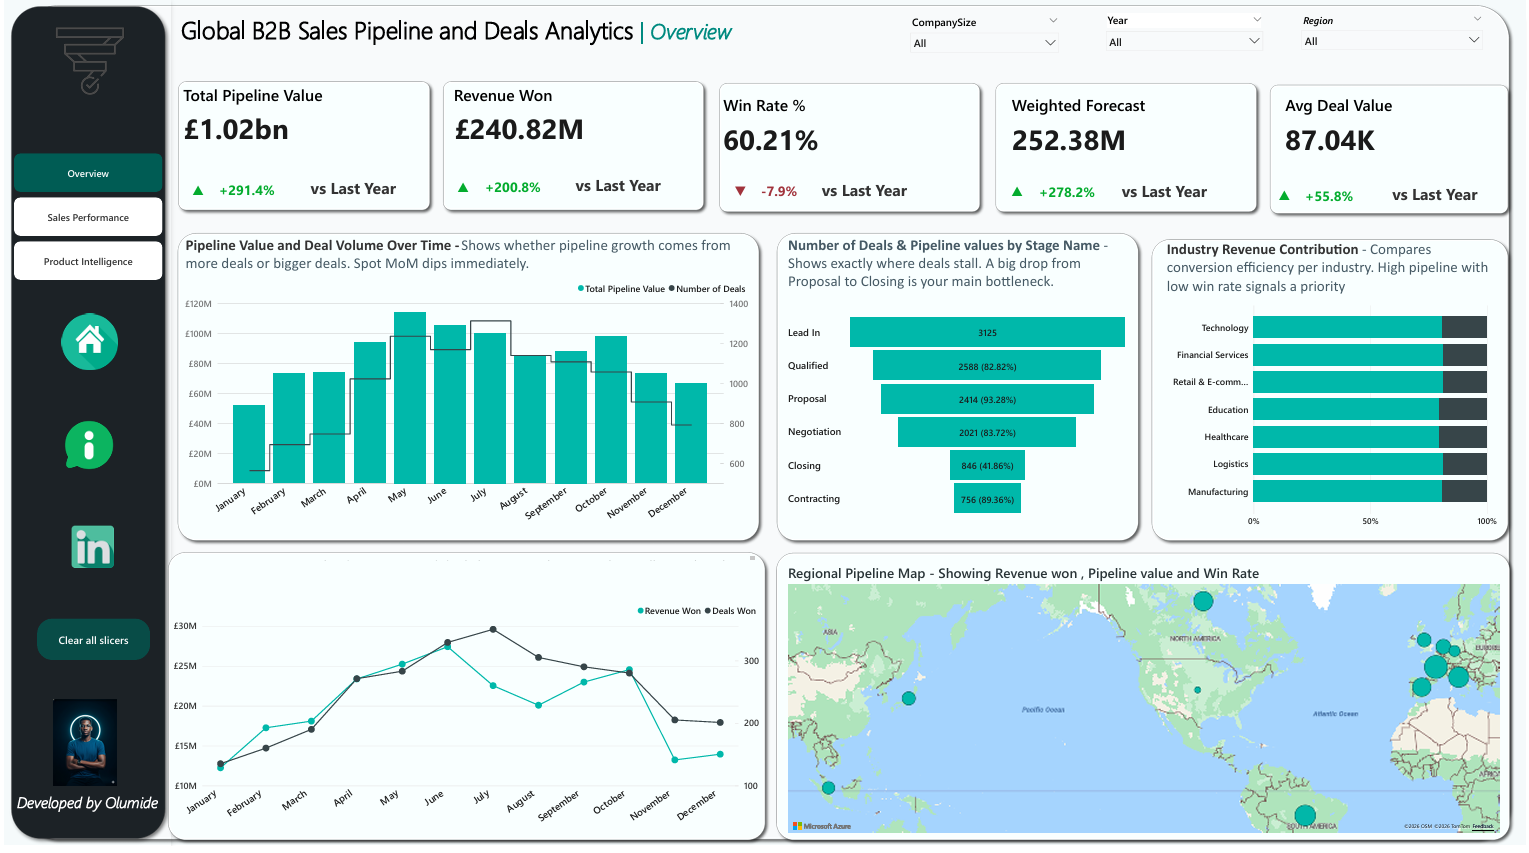

The page's visual inventory and layout, read from the dashboard file:
{"tool":"powerbi","page":{"name":"Overview","canvas":[2700,1500],"ordinal":0},"visuals":[{"type":"group","id":"g1","title":"Group 1","box":[0,0,2680,1500],"z":0},{"type":"shape","box":[25.2,0,2654.4,1500],"z":0,"group":"g1"},{"type":"shape","box":[0,0,297.2,1500],"z":1000,"group":"g1"},{"type":"shape","box":[297.5,135,466.6,249],"z":1000,"group":"g2"},{"type":"shape","box":[296.8,403.8,1052.6,566],"z":1000},{"type":"shape","box":[279.5,969.7,1080.2,531.5],"z":2000},{"type":"shape","box":[1358.6,970.8,1322.5,529.9],"z":3000},{"type":"shape","box":[1359.7,403.8,662.6,566],"z":4000},{"type":"shape","box":[2025,415,652.5,555],"z":5000},{"type":"group","id":"g2","title":"Group 2","box":[297.5,135,2380,255],"z":6000},{"type":"textbox","box":[293.9,19.3,1014.1,89.1],"z":7000},{"type":"shape","box":[767.5,135,483.4,249],"z":7000,"group":"g2"},{"type":"shape","box":[1257.6,138,483.4,249],"z":8000,"group":"g2"},{"type":"funnel","title":"Number of Deals, Pipeline Value by StageName - ","fields":{"Category":["FactDeals.StageName"],"Y":["FactDeals.Number of Deals"]},"box":[1385,530,612.5,415],"z":8000},{"type":"shape","box":[1747.7,138,483.4,249],"z":9000,"group":"g2"},{"type":"lineStackedColumnComboChart","title":"Total Pipeline Value and Number of Deals by Month Name","fields":{"Category":["DimDate.MonthName"],"Y":["FactDeals.1_Total Pipeline Value"],"Y2":["FactDeals.Number of Deals"]},"box":[315,490,1010,455],"z":9000},{"type":"shape","box":[2234.4,141,443.1,249],"z":10000,"group":"g2"},{"type":"hundredPercentStackedBarChart","title":"Total Pipeline Value, 2_Revenue Won and 3_Win Rate % by Industry","fields":{"Category":["DimCompany.Industry"],"Y":["FactDeals.1_Total Pipeline Value","FactDeals.2_Revenue Won"]},"box":[2052.5,530,600,415],"z":10000},{"type":"azureMap","title":"Regional Pipeline Map - Showing Revenue won , Pipeline value and Win Rate","fields":{"Category":["DimCompany.Country","DimCompany.Region"],"Size":["FactDeals.2_Revenue Won"]},"box":[1385.1,999.7,1271.9,481.8],"z":11000},{"type":"areaChart","fields":{"Category":["DimDate.MonthName"],"Y":["FactDeals.2_Revenue Won"],"Y2":["FactDeals.Deals Won"]},"box":[293.9,1062.3,1050.3,419.1],"z":12000},{"type":"cardVisual","fields":{"Data":["FactDeals.1_Total Pipeline Value"]},"box":[300,140,345,130],"z":13000},{"type":"cardVisual","fields":{"Data":["FactDeals.1_Pipeline Value YoY Icon"]},"box":[315.8,294.2,95,77.5],"z":14000},{"type":"cardVisual","fields":{"Data":["FactDeals.1_Pipeline Value YoY Display"]},"box":[363.3,294.2,185,77.5],"z":15000},{"type":"cardVisual","fields":{"Data":["FactDeals.1_Pipeline YoY Label"]},"box":[525.8,294.2,212.5,70],"z":16000},{"type":"cardVisual","fields":{"Data":["FactDeals.2_Revenue Won"]},"box":[780,140,345,130],"z":17000},{"type":"cardVisual","fields":{"Data":["FactDeals.2_Revenue Won YoY Icon"]},"box":[786.2,287.5,95,77.5],"z":18000},{"type":"cardVisual","fields":{"Data":["FactDeals.2_Revenue Won YoY Display"]},"box":[834.6,287.5,200,77.5],"z":19000},{"type":"cardVisual","fields":{"Data":["FactDeals.2_Revenue Won YoY Label"]},"box":[996.2,287.5,212.5,70],"z":20000},{"type":"cardVisual","fields":{"Data":["FactDeals.3_Win Rate %"]},"box":[1257.5,160,345,127.5],"z":21000},{"type":"cardVisual","fields":{"Data":["FactDeals.3_Win Rate YoY Icon"]},"box":[1277.5,295,95,77.5],"z":22000},{"type":"cardVisual","fields":{"Data":["FactDeals.3_Win Rate YoY Display"]},"box":[1325,295,157.5,77.5],"z":23000},{"type":"cardVisual","fields":{"Data":["FactDeals.3_Win Rate Label"]},"box":[1432.5,297.5,260,70],"z":24000},{"type":"cardVisual","fields":{"Data":["FactDeals.4_Weighted Forecast"]},"box":[1770,157.5,345,130],"z":25000},{"type":"cardVisual","fields":{"Data":["FactDeals.4_Weighted Forcast YoY Icon"]},"box":[1768.8,294.6,95,77.5],"z":26000},{"type":"cardVisual","fields":{"Data":["FactDeals.4_Weighted Forcast YoY Display"]},"box":[1817.5,297.5,212.5,77.5],"z":27000},{"type":"cardVisual","fields":{"Data":["FactDeals.4_Weighted Forcast Label"]},"box":[1965,300,212.5,70],"z":28000},{"type":"cardVisual","fields":{"Data":["FactDeals.5_Avg Deal Value"]},"box":[2255,157.5,345,130],"z":29000},{"type":"cardVisual","fields":{"Data":["FactDeals.5_Avg Deal Value YoY Icon"]},"box":[2243.3,302.5,95,77.5],"z":30000},{"type":"cardVisual","fields":{"Data":["FactDeals.5_Avg Deal Value YoY Display"]},"box":[2290,305,197.5,77.5],"z":31000},{"type":"cardVisual","fields":{"Data":["FactDeals.5_Avg Deal Value Label"]},"box":[2445,305,207.5,70],"z":32000},{"type":"slicer","fields":{"Values":["DimDate.Year"]},"box":[1943.9,19.3,298.7,89.1],"z":33000},{"type":"slicer","fields":{"Values":["DimCompany.Region"]},"box":[2290.8,19.3,342.1,89.1],"z":34000},{"type":"textbox","box":[1385.1,414.3,611.8,115.6],"z":35000},{"type":"textbox","box":[315.6,414.3,1009.3,84.3],"z":36000},{"type":"textbox","box":[2057.2,421.5,592.6,115.6],"z":37000},{"type":"textbox","box":[327.6,982.8,1009.3,16.9],"z":38000},{"type":"slicer","fields":{"Values":["DimCompany.CompanySize"]},"box":[1597.1,21.7,284.2,86.7],"z":39000},{"type":"pageNavigator","box":[17.2,273.5,263.6,224.2],"z":40000},{"type":"textbox","box":[16.9,1399.5,265,55.4],"z":41000},{"type":"image","box":[24.1,1235.7,238.5,163.8],"z":42000},{"type":"image","box":[91.5,737.1,115.6,106],"z":43000},{"type":"image","box":[96.1,549.4,110.9,115.8],"z":44000},{"type":"image","box":[71.5,39.4,160.2,140.4],"z":46000},{"type":"image","box":[98.8,915.4,115.6,110.8],"z":47000},{"type":"actionButton","box":[57.8,1098.4,199.9,72.3],"z":48000}]}

Visuals, with their boxes on the page's 2700x1500 design canvas (x1, y1, x2, y2). These are canvas units, not pixel positions in the 1529x853 screenshot, which may show the page scaled, cropped or inside an application window:
"Group 1" group: locate(0, 0, 2680, 1500)
shape: locate(25, 0, 2680, 1500)
shape: locate(0, 0, 297, 1500)
shape: locate(298, 135, 764, 384)
shape: locate(297, 404, 1349, 970)
shape: locate(280, 970, 1360, 1501)
shape: locate(1359, 971, 2681, 1501)
shape: locate(1360, 404, 2022, 970)
shape: locate(2025, 415, 2678, 970)
"Group 2" group: locate(298, 135, 2678, 390)
textbox: locate(294, 19, 1308, 108)
shape: locate(768, 135, 1251, 384)
shape: locate(1258, 138, 1741, 387)
"Number of Deals, Pipeline Value by StageName - " funnel: locate(1385, 530, 1998, 945)
shape: locate(1748, 138, 2231, 387)
"Total Pipeline Value and Number of Deals by Month Name" lineStackedColumnComboChart: locate(315, 490, 1325, 945)
shape: locate(2234, 141, 2678, 390)
"Total Pipeline Value, 2_Revenue Won and 3_Win Rate % by Industry" hundredPercentStackedBarChart: locate(2052, 530, 2652, 945)
"Regional Pipeline Map - Showing Revenue won , Pipeline value and Win Rate" azureMap: locate(1385, 1000, 2657, 1482)
areaChart - DimDate.MonthName x FactDeals.2_Revenue Won: locate(294, 1062, 1344, 1481)
cardVisual - FactDeals.1_Total Pipeline Value: locate(300, 140, 645, 270)
cardVisual - FactDeals.1_Pipeline Value YoY Icon: locate(316, 294, 411, 372)
cardVisual - FactDeals.1_Pipeline Value YoY Display: locate(363, 294, 548, 372)
cardVisual - FactDeals.1_Pipeline YoY Label: locate(526, 294, 738, 364)
cardVisual - FactDeals.2_Revenue Won: locate(780, 140, 1125, 270)
cardVisual - FactDeals.2_Revenue Won YoY Icon: locate(786, 288, 881, 365)
cardVisual - FactDeals.2_Revenue Won YoY Display: locate(835, 288, 1035, 365)
cardVisual - FactDeals.2_Revenue Won YoY Label: locate(996, 288, 1209, 358)
cardVisual - FactDeals.3_Win Rate %: locate(1258, 160, 1602, 288)
cardVisual - FactDeals.3_Win Rate YoY Icon: locate(1278, 295, 1372, 372)
cardVisual - FactDeals.3_Win Rate YoY Display: locate(1325, 295, 1482, 372)
cardVisual - FactDeals.3_Win Rate Label: locate(1432, 298, 1692, 368)
cardVisual - FactDeals.4_Weighted Forecast: locate(1770, 158, 2115, 288)
cardVisual - FactDeals.4_Weighted Forcast YoY Icon: locate(1769, 295, 1864, 372)
cardVisual - FactDeals.4_Weighted Forcast YoY Display: locate(1818, 298, 2030, 375)
cardVisual - FactDeals.4_Weighted Forcast Label: locate(1965, 300, 2178, 370)
cardVisual - FactDeals.5_Avg Deal Value: locate(2255, 158, 2600, 288)
cardVisual - FactDeals.5_Avg Deal Value YoY Icon: locate(2243, 302, 2338, 380)
cardVisual - FactDeals.5_Avg Deal Value YoY Display: locate(2290, 305, 2488, 382)
cardVisual - FactDeals.5_Avg Deal Value Label: locate(2445, 305, 2652, 375)
slicer - DimDate.Year: locate(1944, 19, 2243, 108)
slicer - DimCompany.Region: locate(2291, 19, 2633, 108)
textbox: locate(1385, 414, 1997, 530)
textbox: locate(316, 414, 1325, 499)
textbox: locate(2057, 422, 2650, 537)
textbox: locate(328, 983, 1337, 1000)
slicer - DimCompany.CompanySize: locate(1597, 22, 1881, 108)
pageNavigator: locate(17, 274, 281, 498)
textbox: locate(17, 1400, 282, 1455)
image: locate(24, 1236, 263, 1400)
image: locate(92, 737, 207, 843)
image: locate(96, 549, 207, 665)
image: locate(72, 39, 232, 180)
image: locate(99, 915, 214, 1026)
actionButton: locate(58, 1098, 258, 1171)
